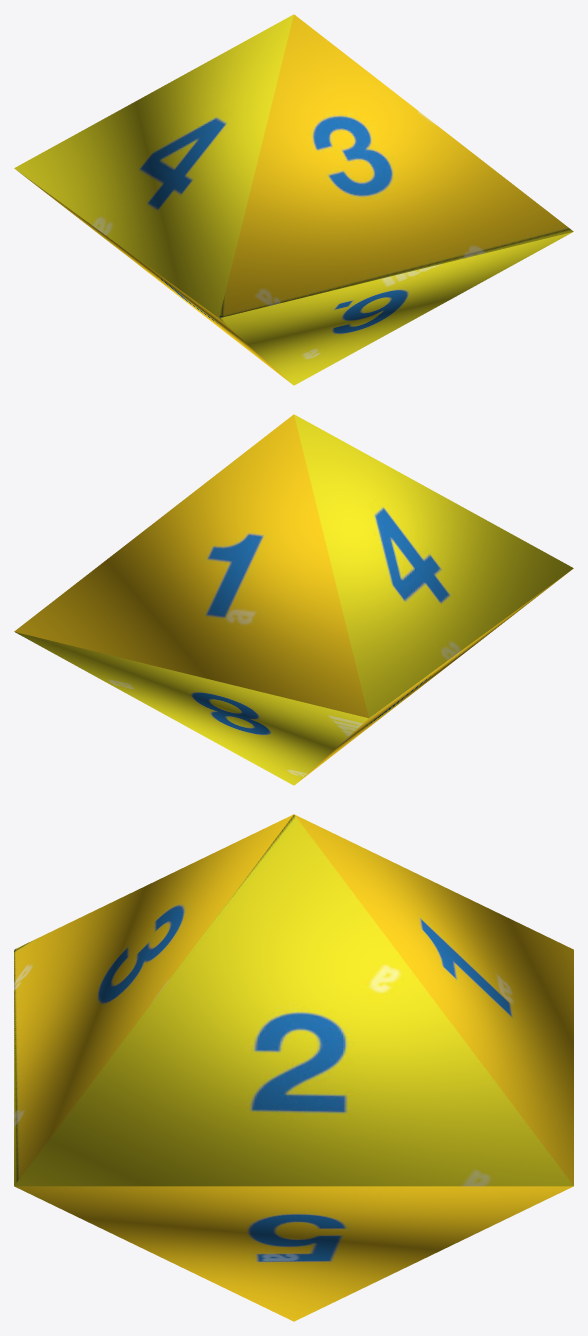
The model's file is dado_Ocho_M.obj.
3 views of the same model, one above another, from view 1: azimuth 30°, elevation 25°; view 2: azimuth 150°, elevation 25°; view 3: azimuth 270°, elevation 25° (orthographic). The views are drawn at different scales.
Parts seen in each view (by area): view 1: Pyramid001, Pyramid002; view 2: Pyramid001, Pyramid002; view 3: Pyramid001, Pyramid002.
Boxes of the visible parts, box(x1,y1,x2,y2) form: Pyramid001: box(14, 14, 573, 318); Pyramid002: box(18, 171, 572, 385); Pyramid001: box(14, 414, 573, 718); Pyramid002: box(15, 571, 569, 785); Pyramid001: box(14, 814, 573, 1186); Pyramid002: box(14, 1186, 573, 1321).
Size of the model in its own units: 19.68 by 19.68 by 19.68.
